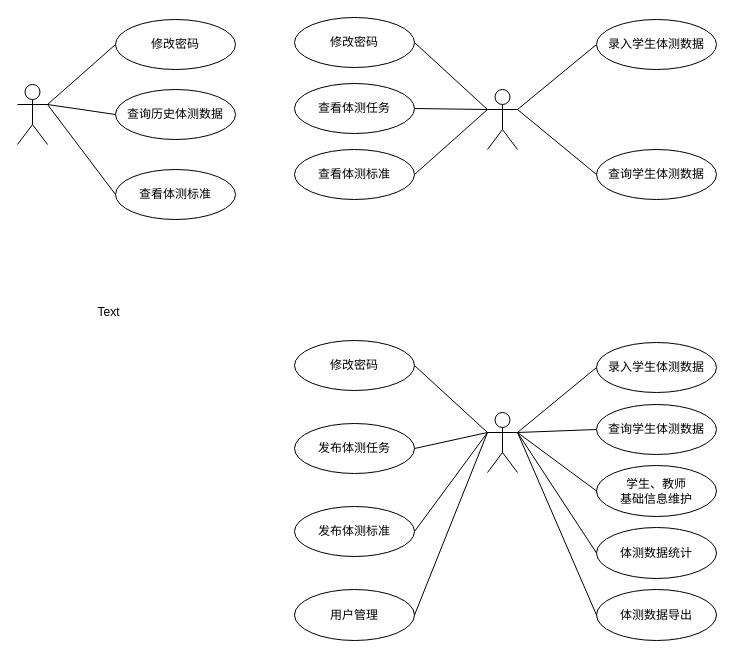
Some shapes in this 734 by 658 pixel diagram are drawn without their labels. Here are the shapes that lost their labels. From the top down, the box of each, then its label:
(16, 84, 48, 144): 学生
(486, 88, 518, 150): 教师
(486, 412, 518, 472): 管理员
